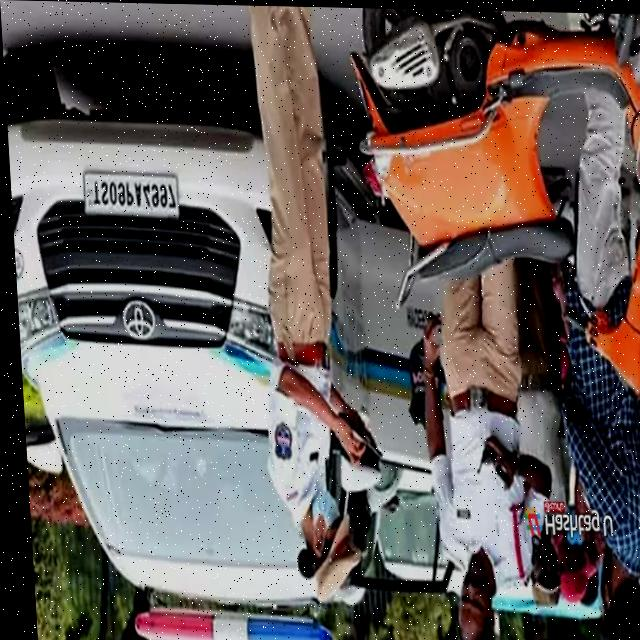plate: (76, 163, 182, 223)
